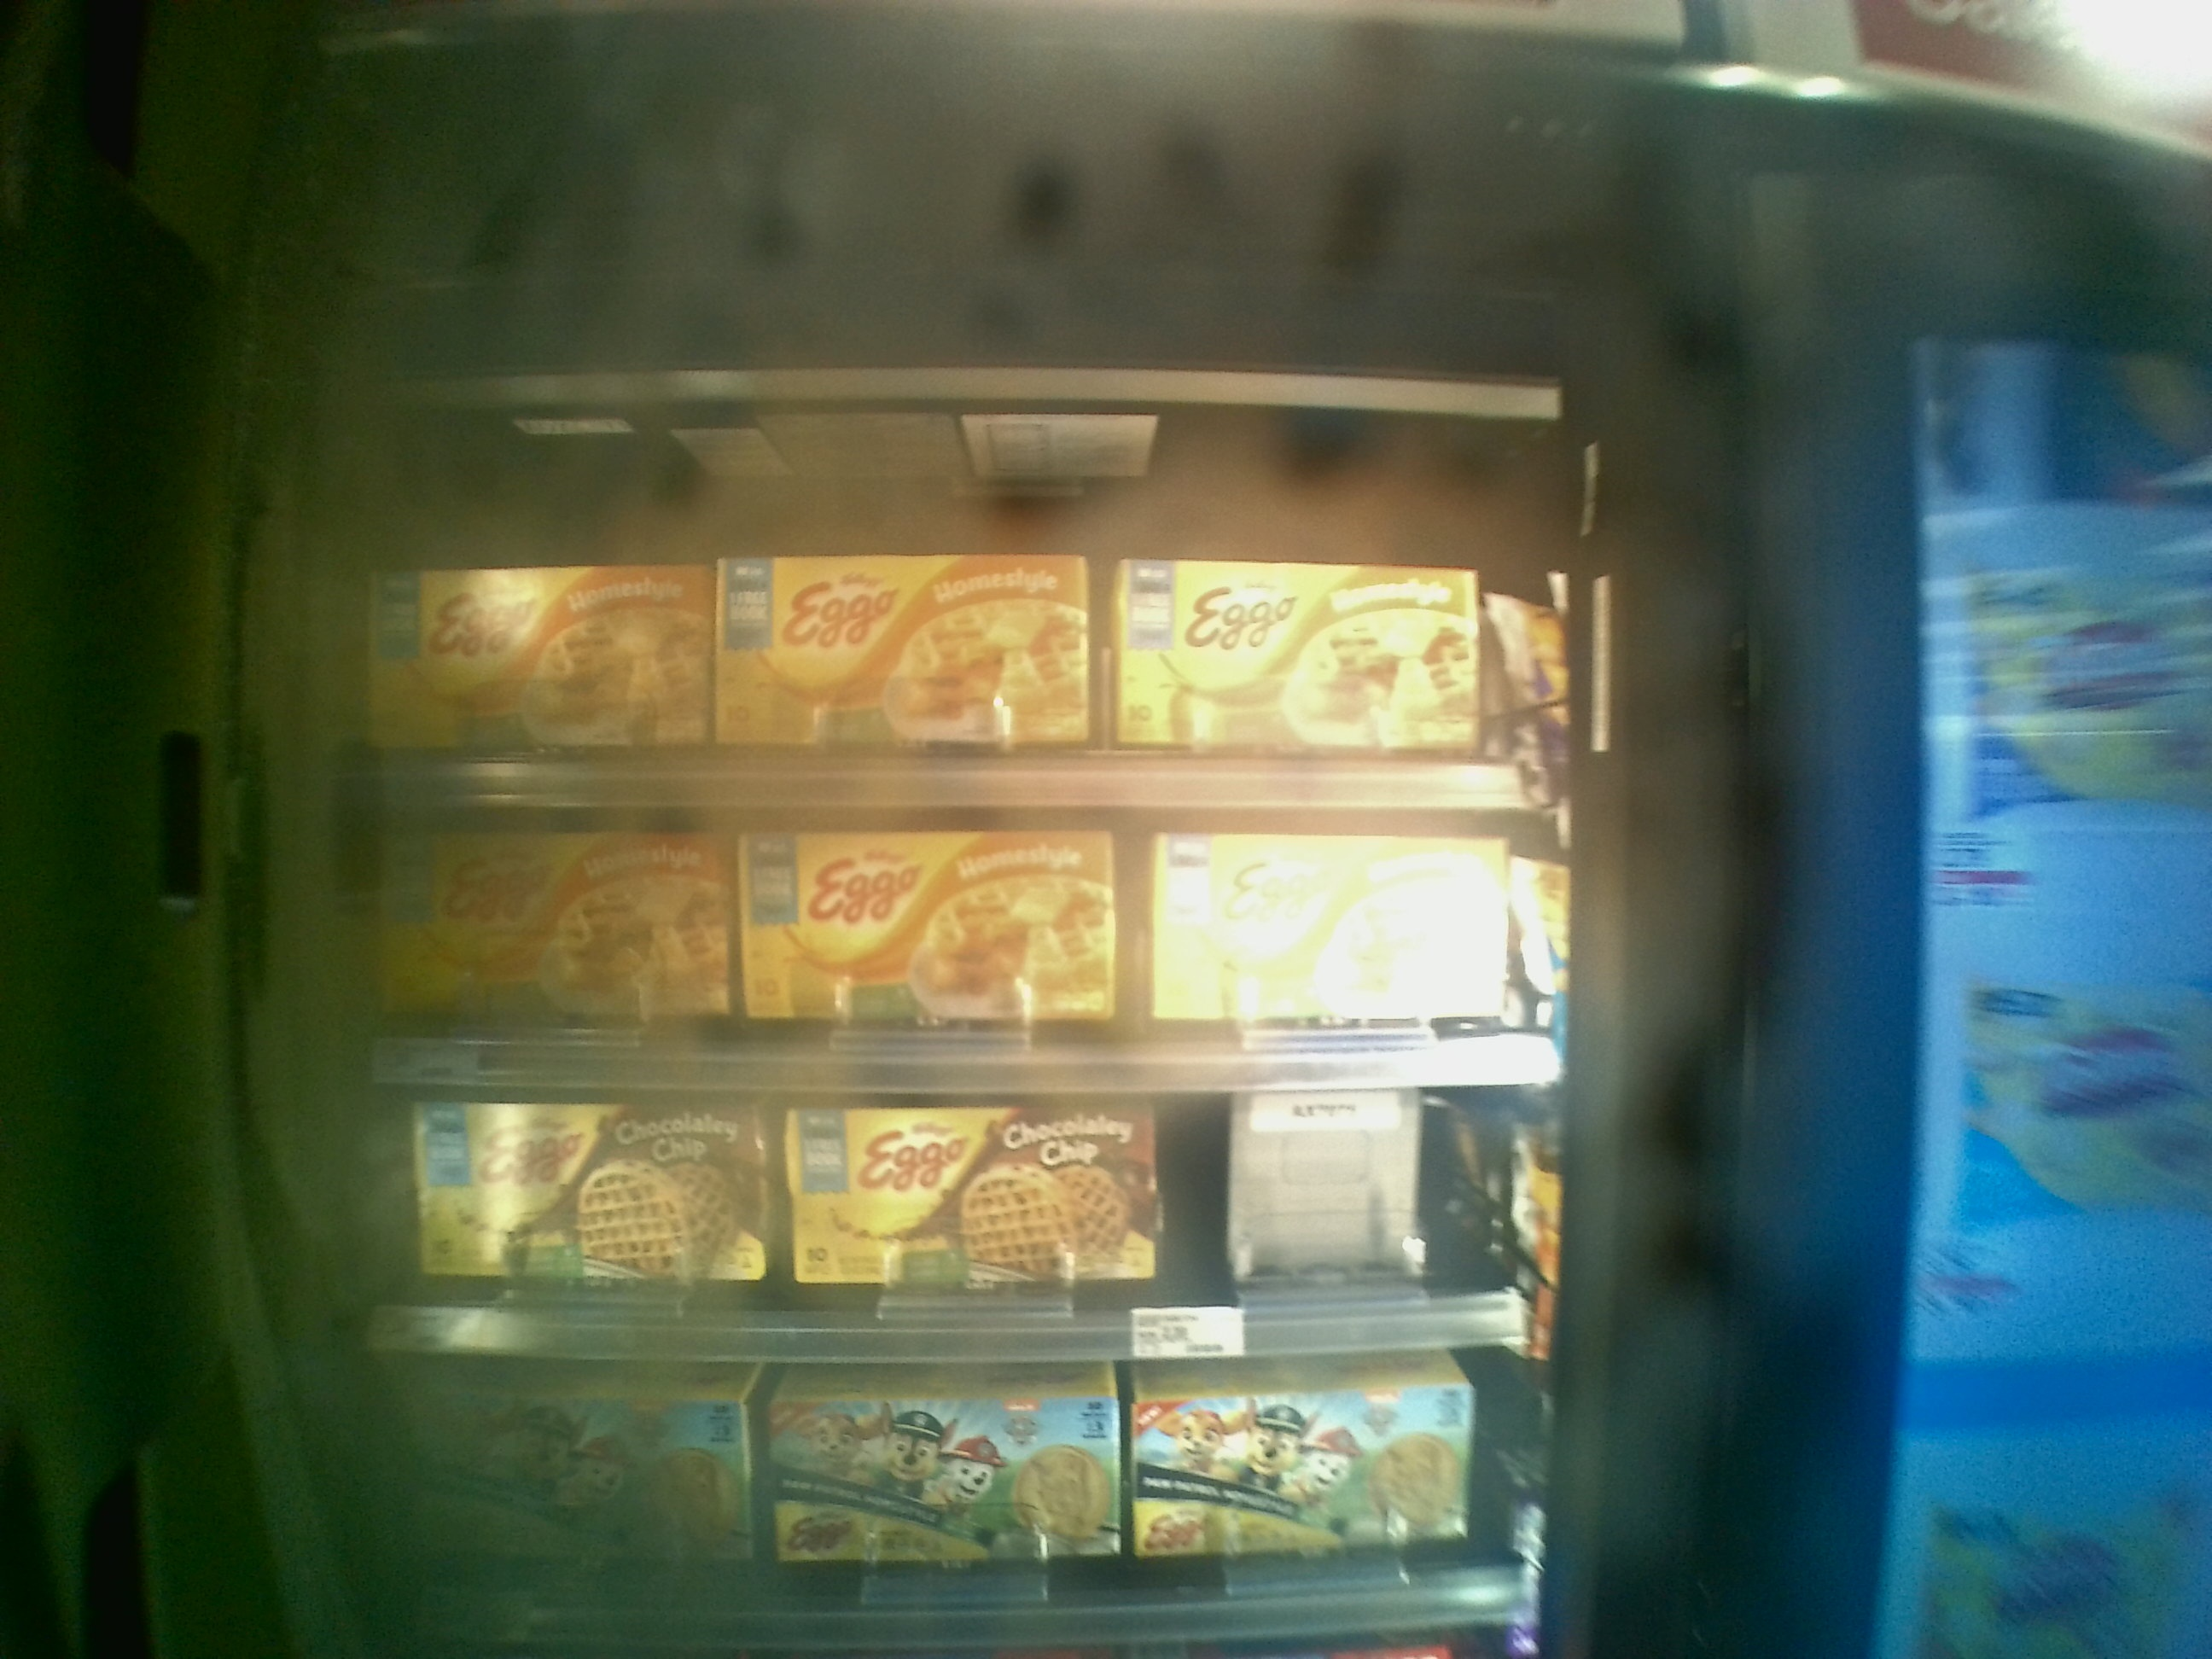shelf: (364, 375, 1569, 809), (378, 807, 1559, 1096), (404, 1359, 1533, 1647), (376, 1100, 1517, 1359)
